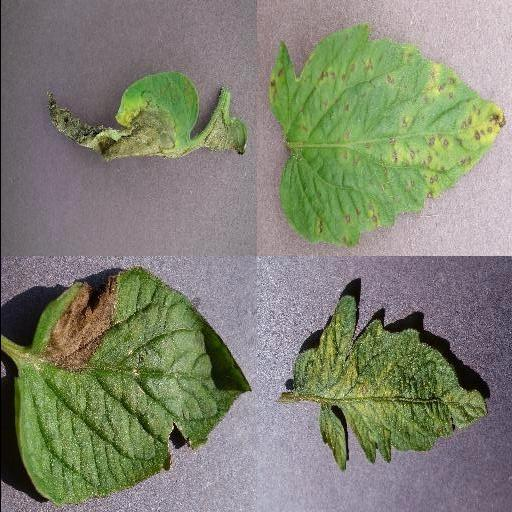Late Blight: (9, 270, 251, 506), (39, 67, 201, 165)
Mosaic Virus: (290, 294, 490, 474)
Septoria: (270, 26, 504, 248)
